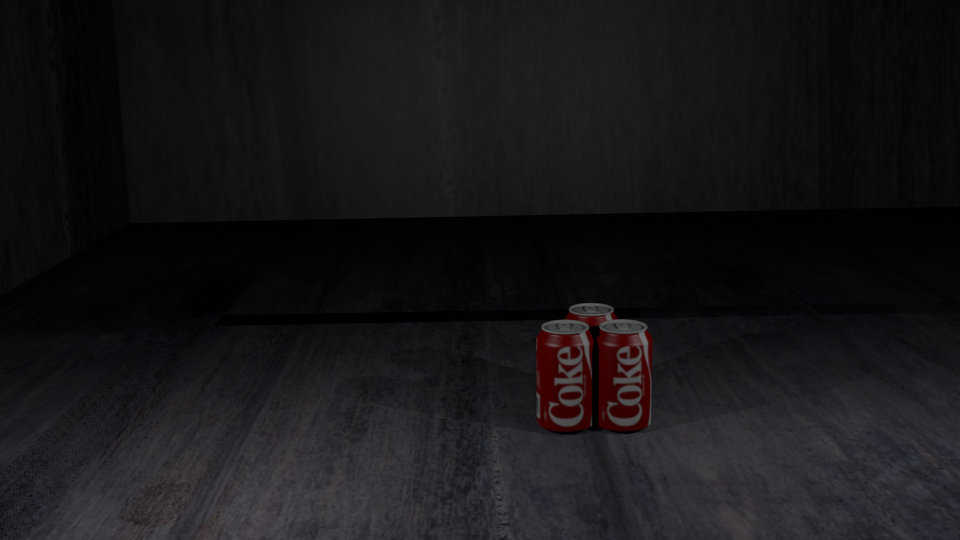cola_can: (537, 320, 593, 429), (594, 320, 651, 427), (564, 303, 617, 406)
